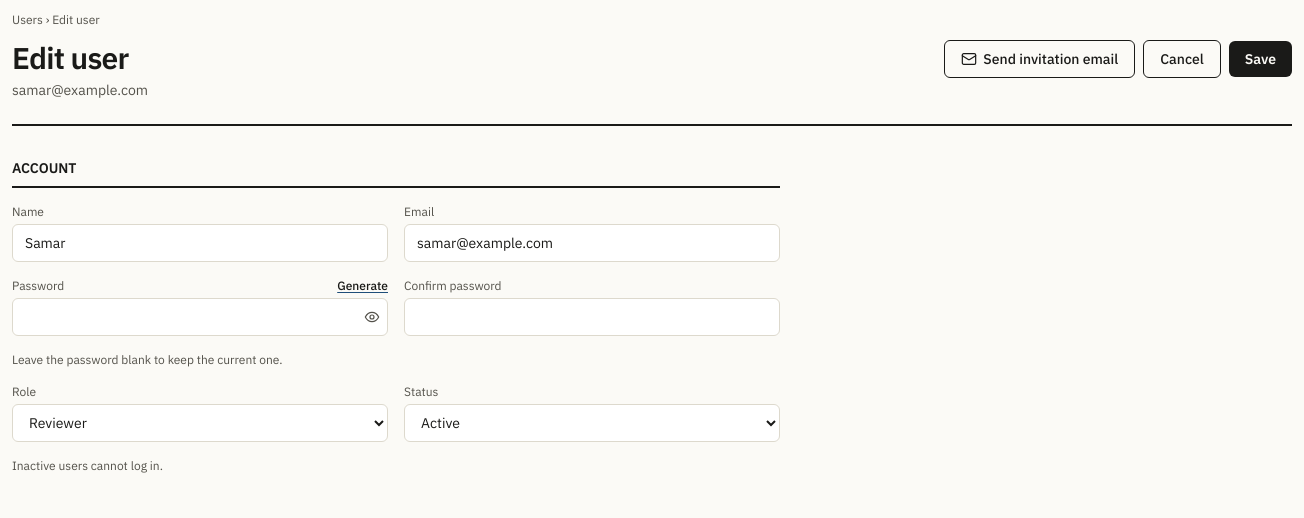
Test: UserEditPage › shows an error when the invitation fails
The image size is (1304, 518).
Click the button with test id "send-invitation-button" at (1040, 59), box [944,40,1135,78]
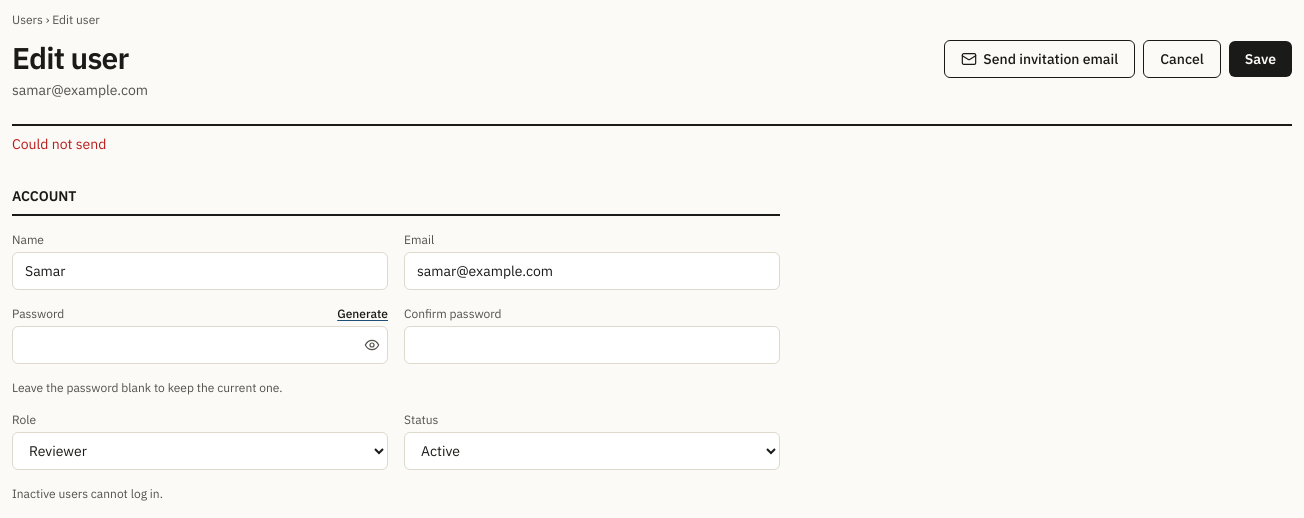
Expected: the text "Could not send" is shown, [12,135,106,153]
